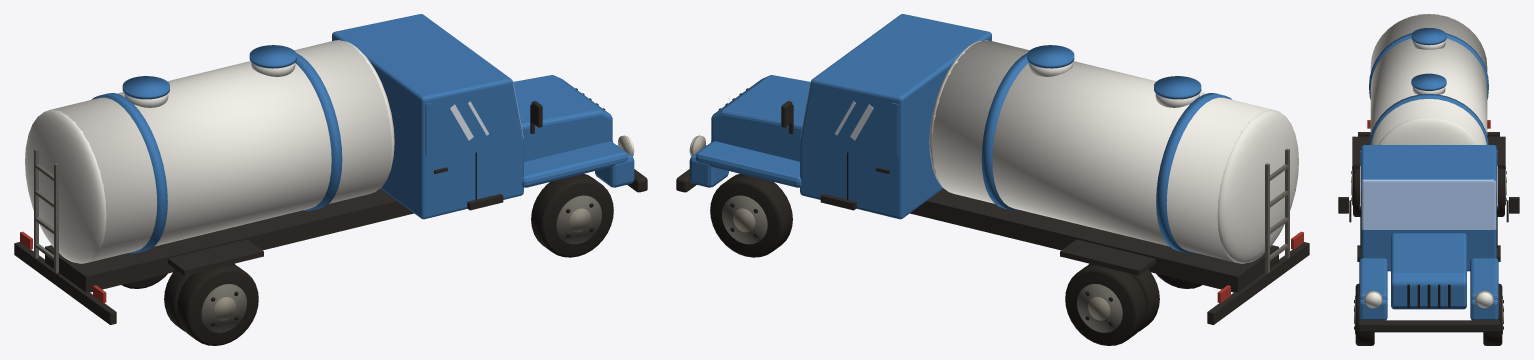
File: VH_Milk.glb
3 views of the same model, side by side, from view 1: azimuth 30°, elevation 25°; view 2: azimuth 150°, elevation 25°; view 3: azimuth 270°, elevation 25° (orthographic). The views are drawn at different scales.
Visible parts, largest first — view 1: cab; view 2: cab; view 3: cab.
Boxes of the visible parts, <box> form: cab: <box>14,14,647,345</box>; cab: <box>676,14,1309,345</box>; cab: <box>1338,14,1519,345</box>.
Bounding box in the file's own units: 7.01 × 2.76 × 2.68.
